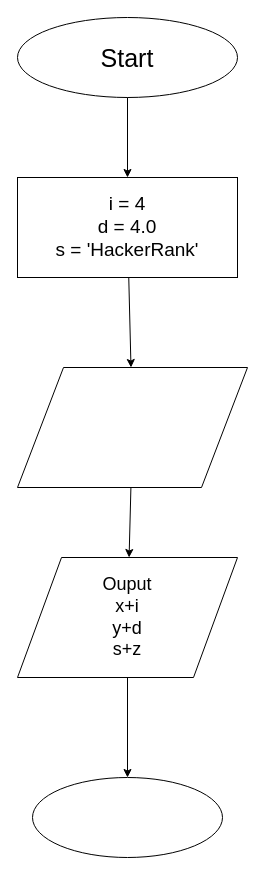
Image size: 265x875. Some labels were removed from this diagram. The centre of each missing label's shape, as x and y in pixels:
end: pixel 127 817
Input x,y,z: pixel 132 427
